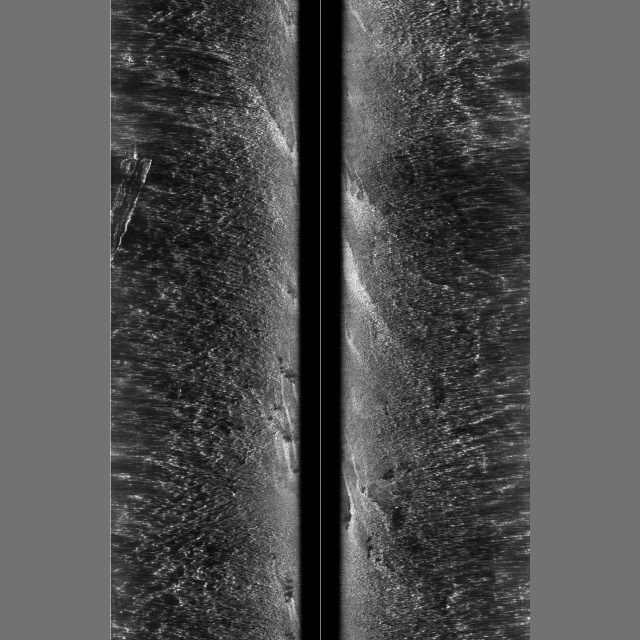Shipwreck: (110, 153, 152, 262)
